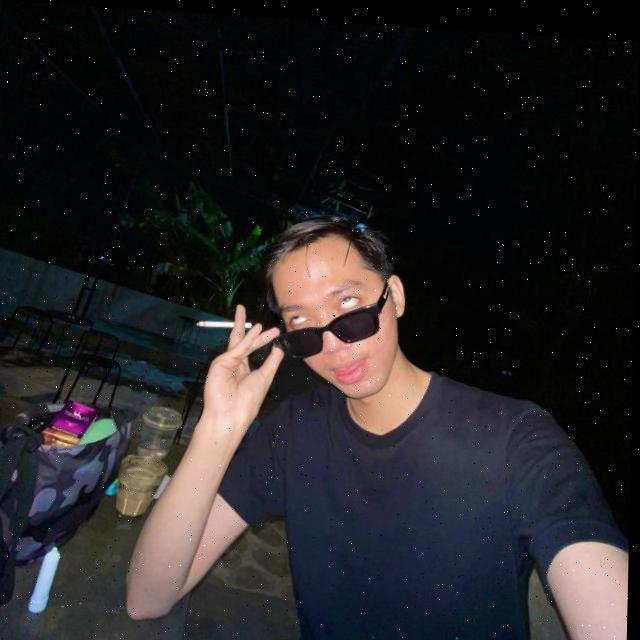cigarette: (197, 319, 253, 326)
